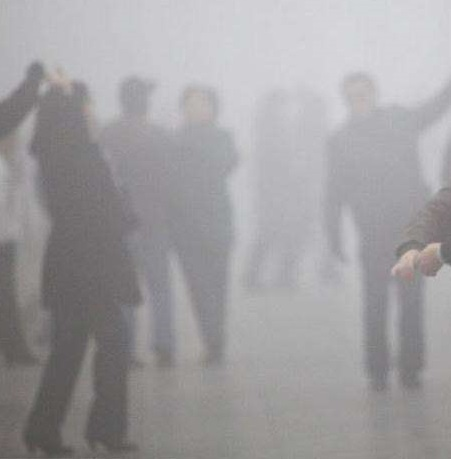person: (21, 74, 146, 459), (317, 69, 451, 409), (83, 70, 190, 372), (159, 79, 252, 380), (237, 90, 309, 290)
